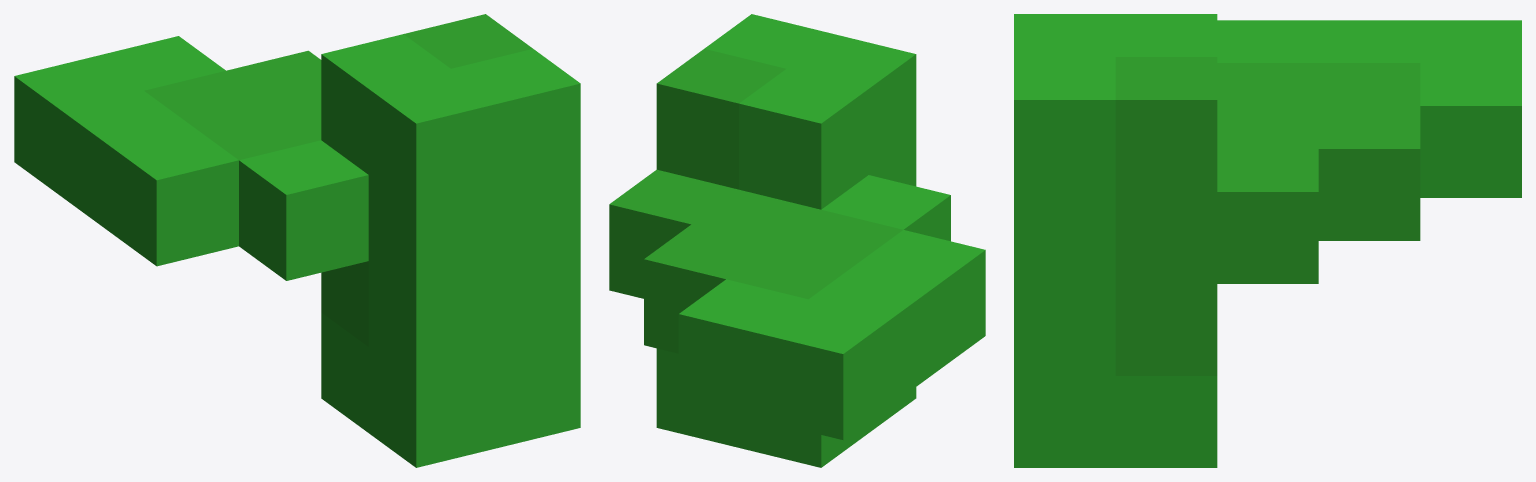
File: potatos_1-0-carrot_1.obj
3 renders of one model, left to right at view 1: azimuth 30°, elevation 25°; view 2: azimuth 150°, elevation 25°; view 3: azimuth 270°, elevation 25°, orthographic. The views are drawn at different scales.
Visible parts, largest first — view 1: carrot_1; view 2: carrot_1; view 3: carrot_1.
Part boxes in pixels (<box>): carrot_1: <box>14,14,580,467</box>; carrot_1: <box>609,14,985,467</box>; carrot_1: <box>1014,14,1521,467</box>.
Size of the model in its own units: 0.8 by 0.8 by 1.
